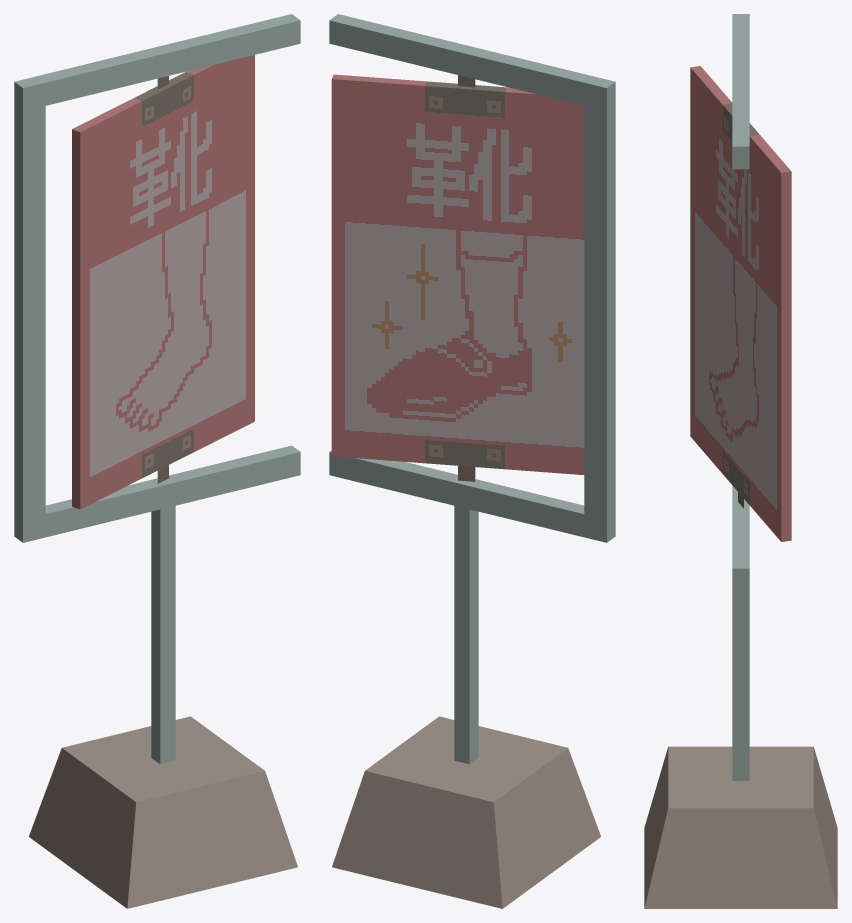
The model's file is 0294_Shoe_Store_Sign.glb.
3 views of the same model, side by side, from view 1: azimuth 30°, elevation 25°; view 2: azimuth 150°, elevation 25°; view 3: azimuth 270°, elevation 25° (orthographic). The views are drawn at different scales.
Parts seen in each view (by area): view 1: part_0; view 2: part_0; view 3: part_0.
Boxes of the visible parts, x1,y1,x2,y2 form: part_0: (14, 14, 300, 908); part_0: (329, 14, 615, 908); part_0: (644, 14, 837, 908).
Size of the model in its own units: 0.6391 by 1.76 by 0.3933.
Materials: 1 (1 with a texture image).
